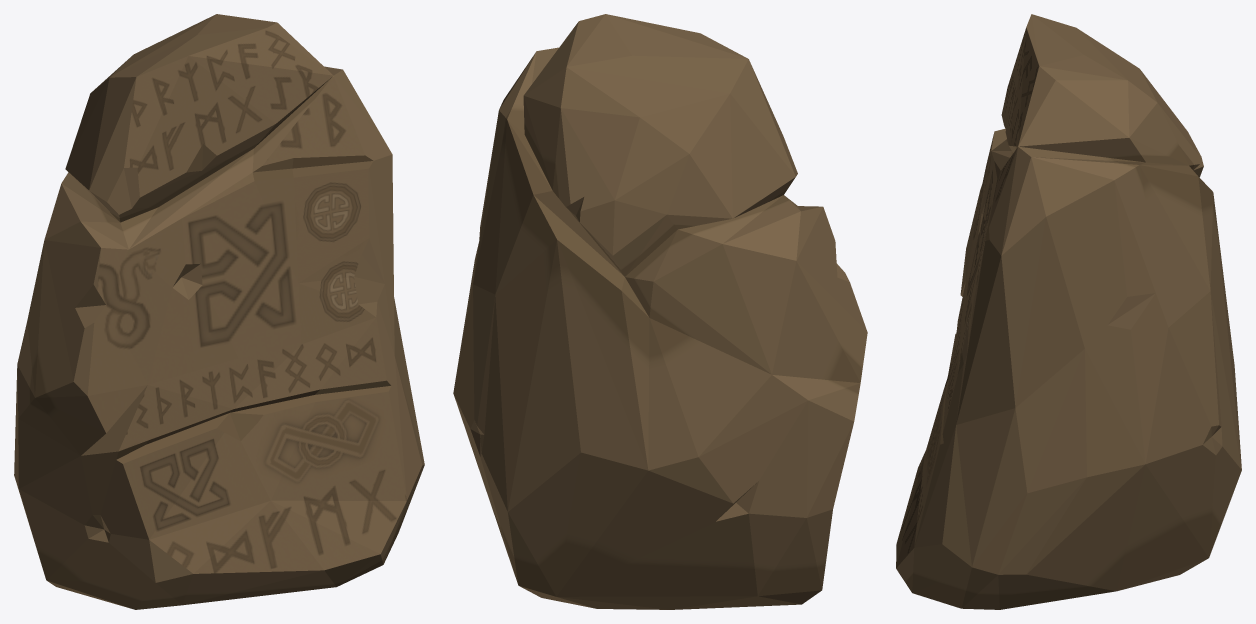
File: SM_Prop_RuneStone_01.fbx
3 renders of one model, left to right at view 1: azimuth 30°, elevation 25°; view 2: azimuth 150°, elevation 25°; view 3: azimuth 270°, elevation 25°, orthographic. The views are drawn at different scales.
Visible parts, largest first — view 1: SM_Prop_RuneStone_01; view 2: SM_Prop_RuneStone_01; view 3: SM_Prop_RuneStone_01.
Boxes of the visible parts, x1=… form: SM_Prop_RuneStone_01: x1=14, y1=14, x2=424, y2=609; SM_Prop_RuneStone_01: x1=453, y1=14, x2=867, y2=609; SM_Prop_RuneStone_01: x1=896, y1=14, x2=1241, y2=609.
Size of the model in its own units: 178 by 239 by 143.
